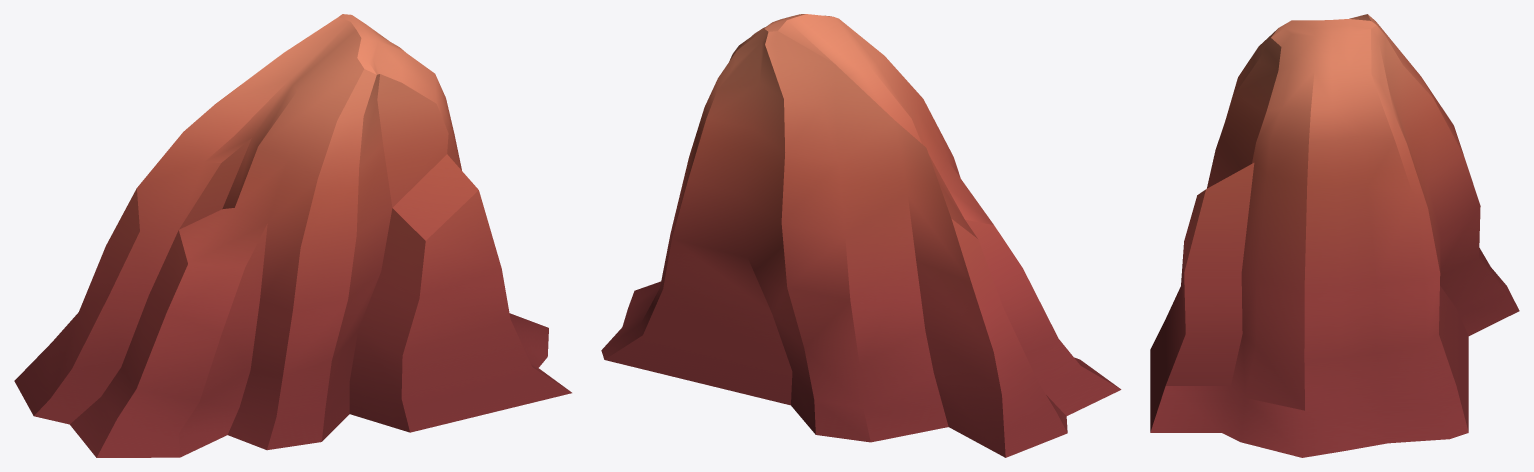
Rendered from Cliffs_V04.fbx.
3 renders of one model, left to right at view 1: azimuth 30°, elevation 25°; view 2: azimuth 150°, elevation 25°; view 3: azimuth 270°, elevation 25°, orthographic. The views are drawn at different scales.
Parts seen in each view (by area): view 1: SM_Cliff_V04_C01_01; view 2: SM_Cliff_V04_C01_01; view 3: SM_Cliff_V04_C01_01.
Part boxes in pixels (<box>): SM_Cliff_V04_C01_01: <box>14,14,571,457</box>; SM_Cliff_V04_C01_01: <box>601,14,1121,457</box>; SM_Cliff_V04_C01_01: <box>1150,14,1519,457</box>.
Bounding box in the file's own units: 824 × 550 × 527.
